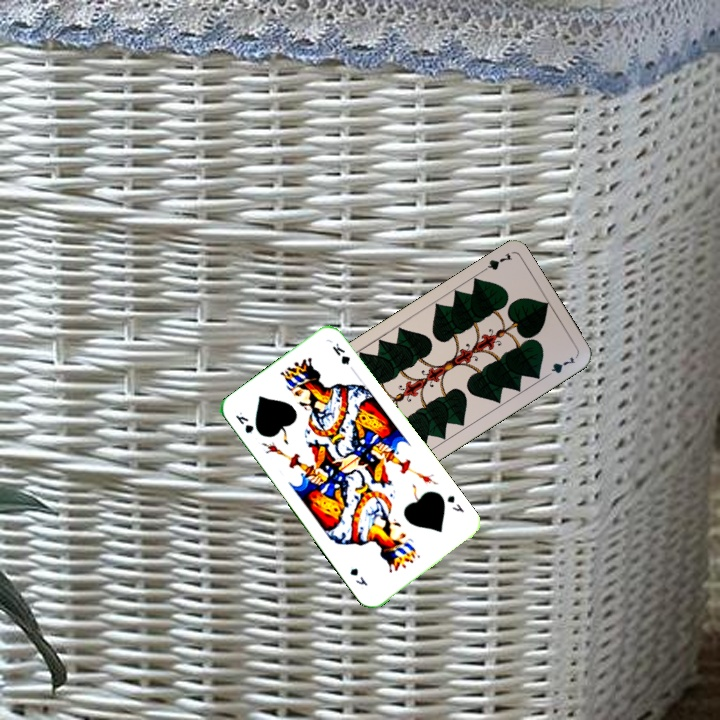G7: (476, 249, 514, 276)
GK: (231, 407, 256, 437), (443, 491, 467, 515)
